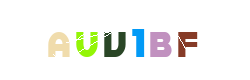1: (99, 0, 179, 80)
A: (26, 0, 106, 80)
B: (106, 0, 186, 80)
F: (117, 0, 197, 80)
U: (46, 0, 126, 80)
V: (85, 0, 165, 80)
